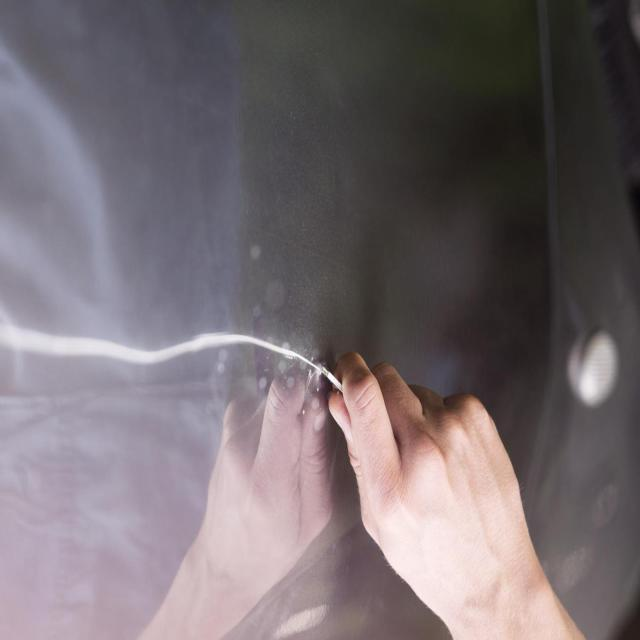scratch: (145, 320, 320, 387)
